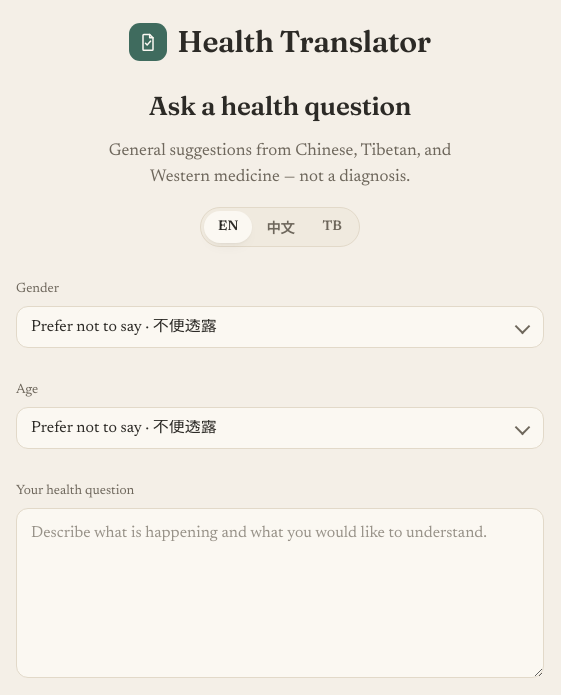
advice page T4 live flow › renders an emergency-only block as banner-only with no refusal or schools
Replace the text in the text box labelled "Your health question" with "A suppress-model question" at (280, 593), box x1=16 y1=508 x2=544 y2=678
(page scrolled)
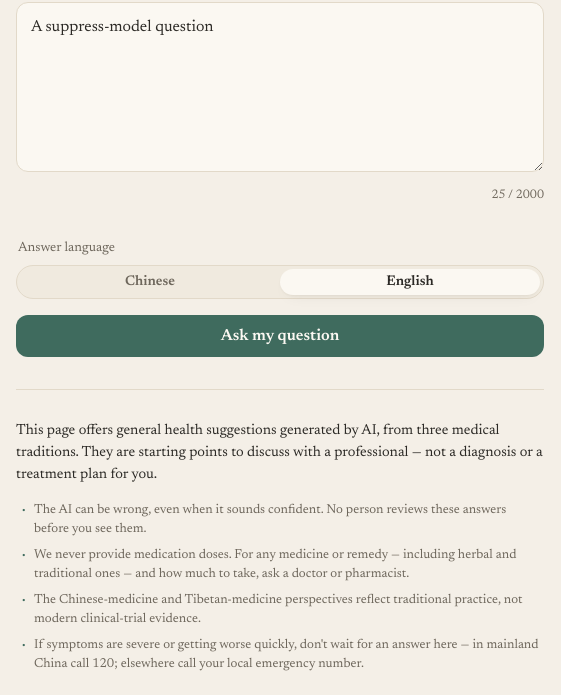
Click the button "Ask my question".
click(280, 336)  # box x1=16 y1=315 x2=544 y2=357
(page scrolled)
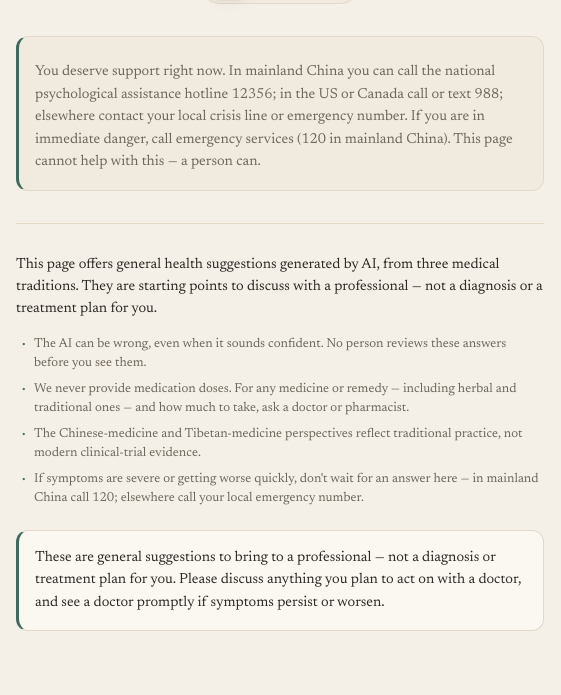
Expected: the number of elements with test id "advice-disclaimer" is 5, x1=16 y1=254 x2=544 y2=320; x1=16 y1=334 x2=544 y2=373; x1=16 y1=379 x2=544 y2=418; x1=16 y1=424 x2=544 y2=463; x1=16 y1=469 x2=544 y2=508
Expected: the message shows "You deserve support right now.", x1=35 y1=64 x2=513 y2=169
